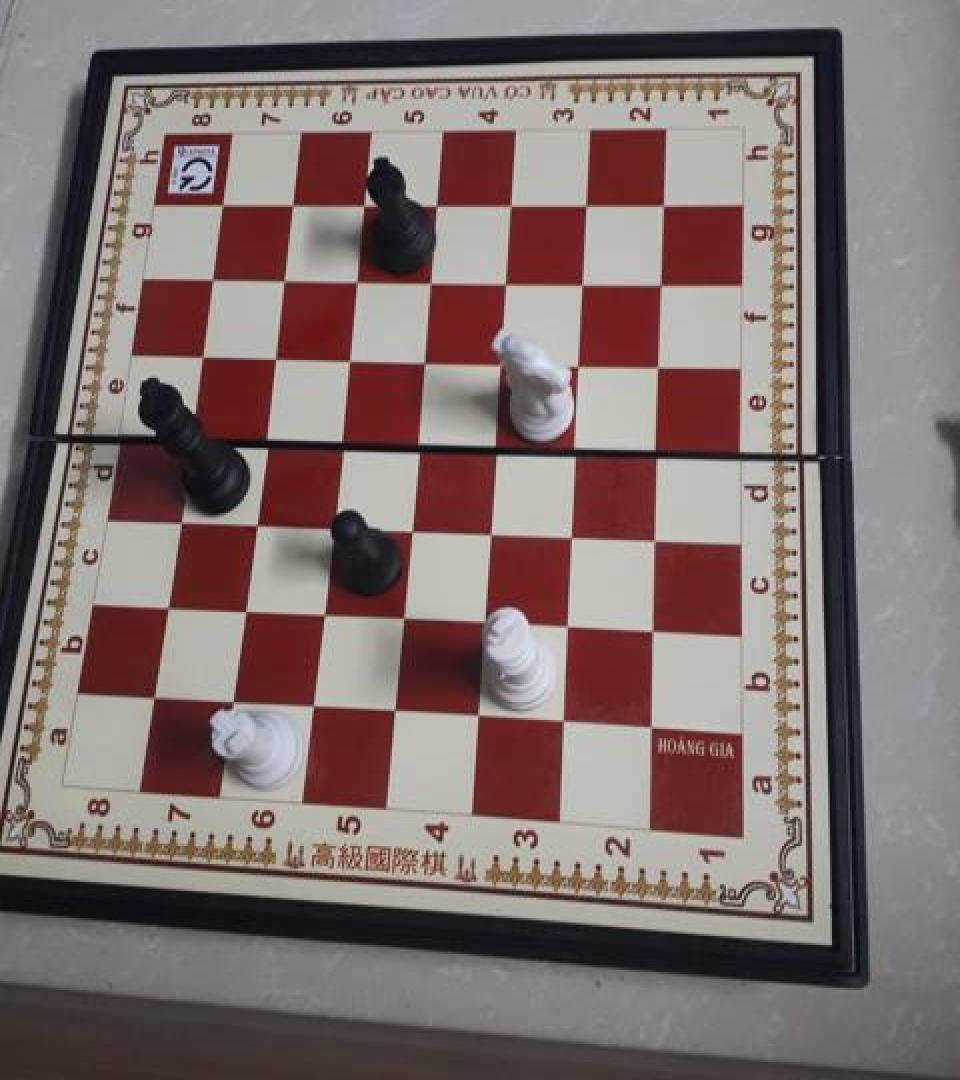xcorner: (142, 677, 170, 709), (300, 686, 328, 718), (465, 696, 493, 728), (551, 702, 579, 734), (638, 706, 666, 738), (154, 587, 182, 619), (309, 595, 337, 627), (389, 598, 417, 630), (471, 603, 499, 635), (555, 606, 583, 638), (241, 504, 269, 536), (318, 507, 346, 539), (559, 515, 587, 547), (643, 517, 671, 549), (327, 423, 355, 455), (404, 424, 432, 456), (482, 426, 510, 458), (563, 427, 591, 459), (335, 342, 363, 374), (410, 342, 438, 374), (488, 343, 516, 375), (566, 344, 594, 376), (647, 344, 675, 376), (199, 263, 227, 295), (270, 263, 298, 295), (343, 263, 371, 295), (417, 263, 445, 295), (493, 263, 521, 295), (570, 263, 598, 295), (649, 263, 677, 295), (210, 190, 238, 222), (279, 190, 307, 222), (351, 189, 379, 221), (220, 682, 248, 713), (381, 692, 409, 723), (231, 592, 259, 623), (641, 611, 669, 642), (166, 502, 194, 533), (396, 510, 424, 541), (477, 512, 505, 543), (178, 420, 206, 451), (251, 421, 279, 452), (645, 430, 673, 461), (189, 340, 217, 371), (261, 341, 289, 372), (423, 188, 451, 219), (498, 187, 526, 218), (573, 187, 601, 218), (651, 186, 679, 217)
